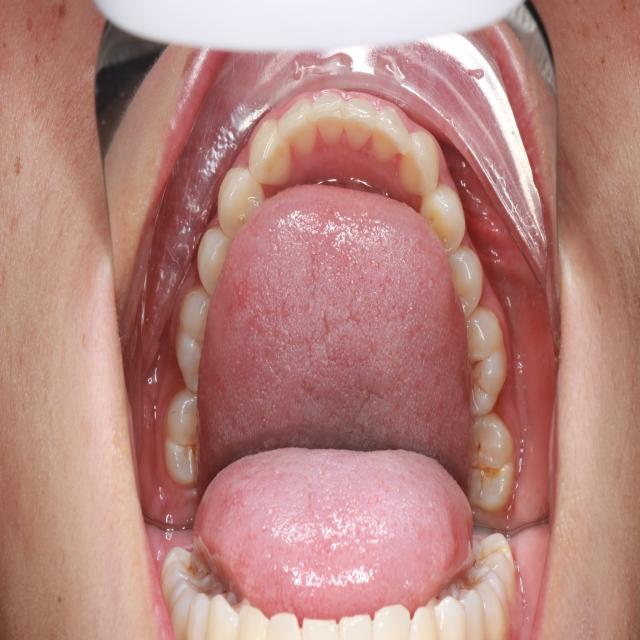tooth: (463, 400, 521, 521), (462, 294, 512, 421), (169, 276, 218, 400), (157, 384, 211, 495), (436, 229, 492, 321), (420, 176, 473, 259), (243, 117, 300, 192), (214, 162, 268, 241), (370, 91, 417, 179), (397, 116, 441, 209), (335, 84, 382, 160), (307, 83, 353, 157), (276, 90, 320, 163), (190, 223, 234, 294)
